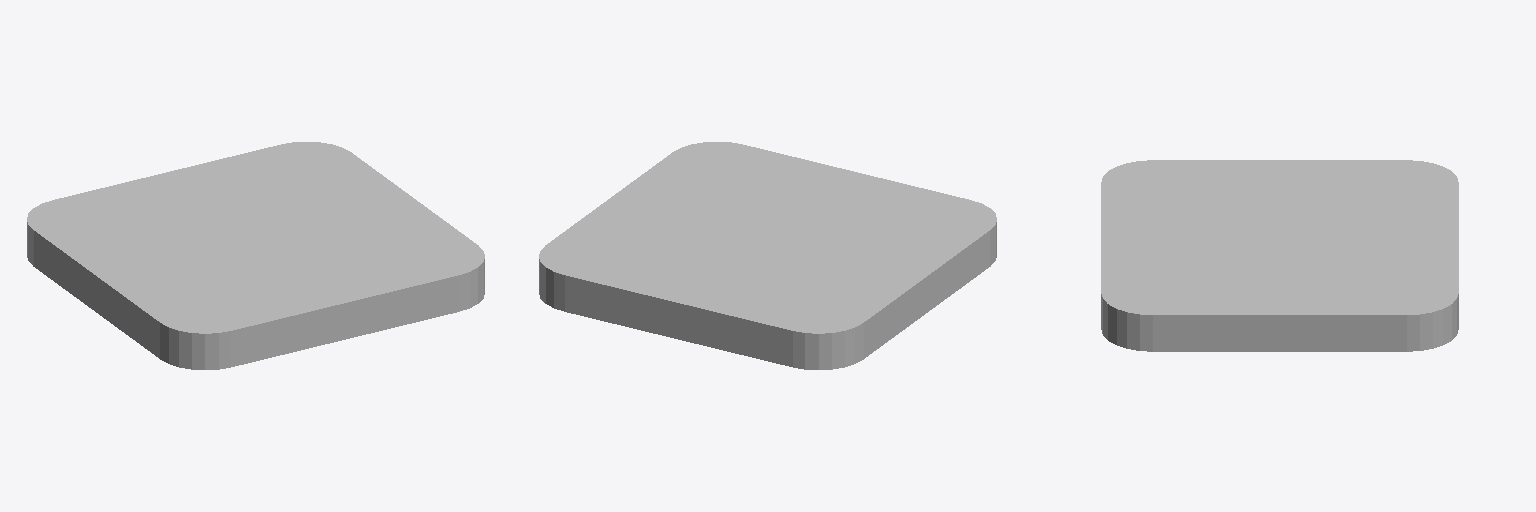
File: original-58.obj
3 renders of one model, left to right at view 1: azimuth 30°, elevation 25°; view 2: azimuth 150°, elevation 25°; view 3: azimuth 270°, elevation 25°, orthographic.
Visible parts, largest first — view 1: mesh57/mesh57-geometry#mesh57-geometry; view 2: mesh57/mesh57-geometry#mesh57-geometry; view 3: mesh57/mesh57-geometry#mesh57-geometry.
Part boxes in pixels (bbox=[...]): mesh57/mesh57-geometry#mesh57-geometry: bbox=[27, 142, 484, 369]; mesh57/mesh57-geometry#mesh57-geometry: bbox=[539, 142, 996, 369]; mesh57/mesh57-geometry#mesh57-geometry: bbox=[1101, 160, 1458, 351].
Size of the model in its own units: 0.0583 by 0.0064 by 0.0568.